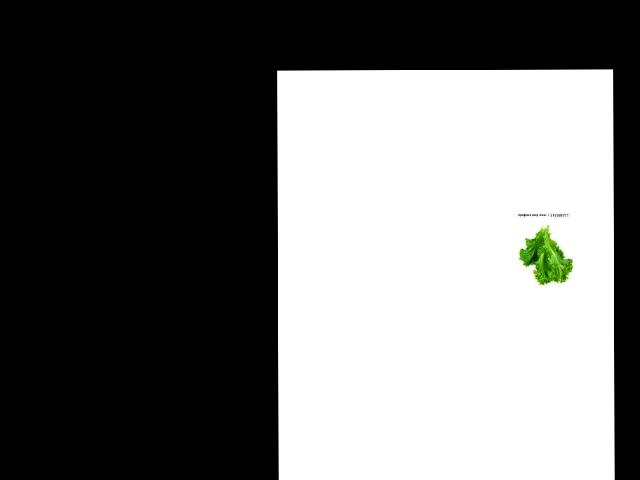lettuce: (517, 221, 572, 286)
